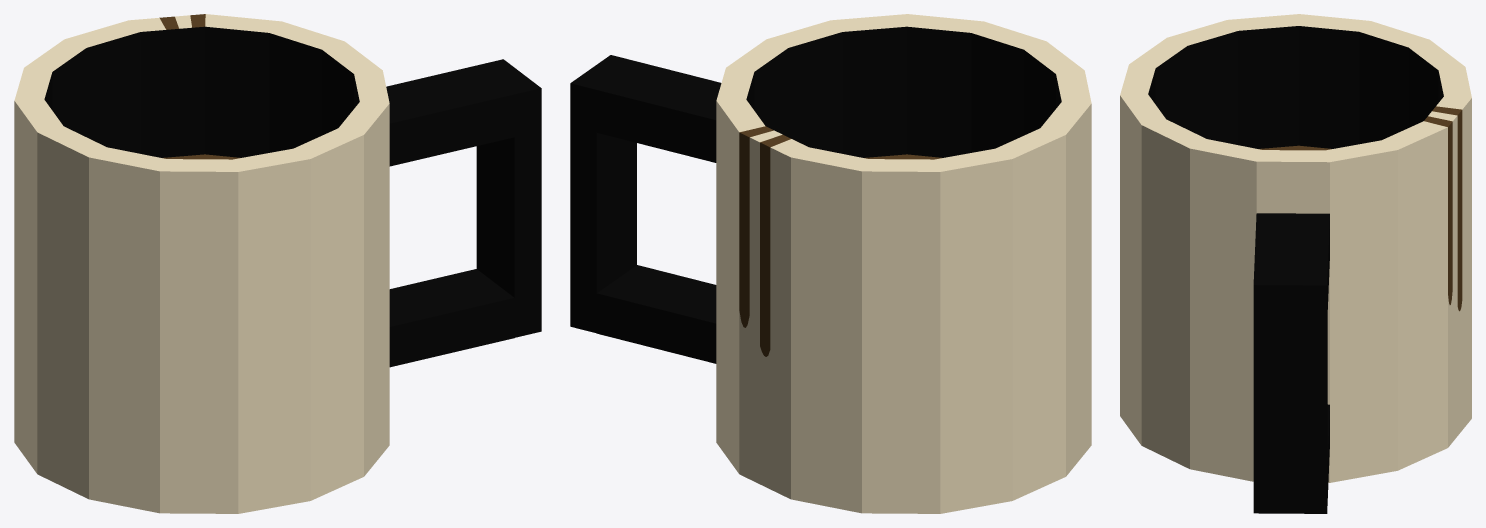
Rendered from cup_2.fbx.
The picture shows the model from 3 angles, left to right: view 1: azimuth 30°, elevation 25°; view 2: azimuth 150°, elevation 25°; view 3: azimuth 270°, elevation 25°; orthographic projection. The views are drawn at different scales.
Visible parts, largest first — view 1: Цилиндр; view 2: Цилиндр; view 3: Цилиндр.
Boxes of the visible parts, x1=… form: Цилиндр: x1=14, y1=14, x2=541, y2=513; Цилиндр: x1=570, y1=14, x2=1091, y2=513; Цилиндр: x1=1120, y1=14, x2=1471, y2=513.
Size of the model in its own units: 2.94 by 2 by 1.99.
